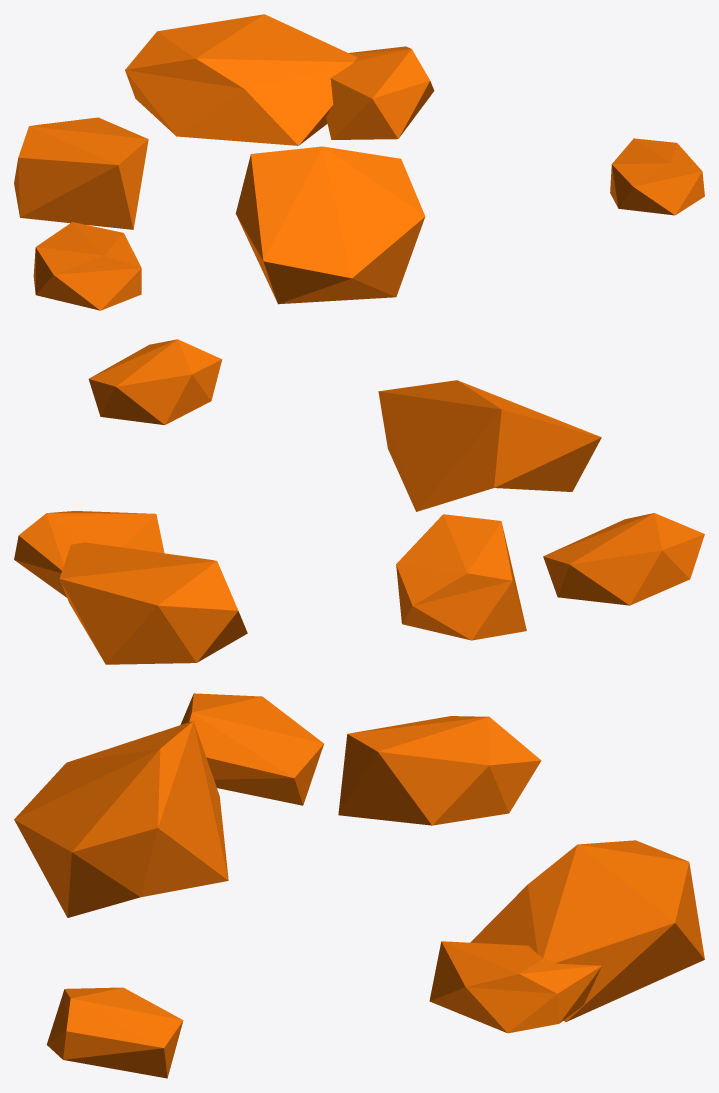
Rendered from Gem_00_rock.FBX.
3 renders of one model, top to bottom at view 1: azimuth 30°, elevation 25°; view 2: azimuth 150°, elevation 25°; view 3: azimuth 270°, elevation 25°, orthographic. The views are drawn at different scales.
Parts seen in each view (by area): view 1: Gem_00_rock; view 2: Gem_00_rock; view 3: Gem_00_rock.
Boxes of the visible parts, x1,y1,x2,y2 form: Gem_00_rock: (14, 14, 704, 310); Gem_00_rock: (14, 339, 704, 664); Gem_00_rock: (14, 693, 704, 1078).
Bounding box in the file's own units: 56.66 × 12.15 × 47.72.
